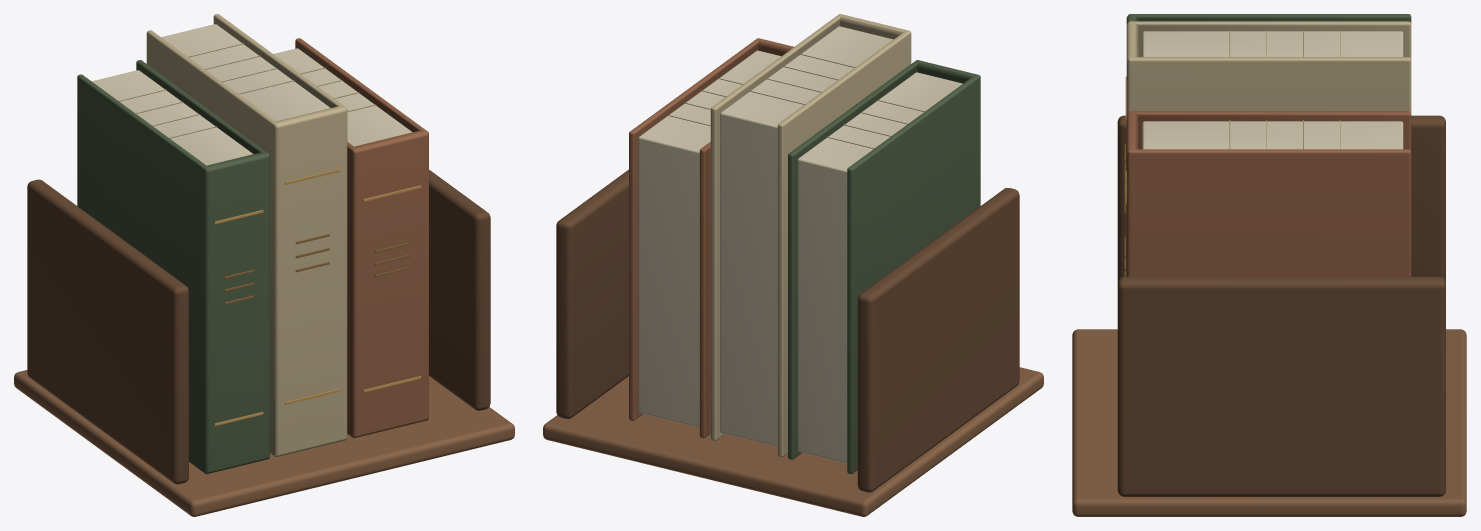
File: deskbooks.glb
The picture shows the model from 3 angles, left to right: view 1: azimuth 30°, elevation 25°; view 2: azimuth 150°, elevation 25°; view 3: azimuth 270°, elevation 25°; orthographic projection. The views are drawn at different scales.
Visible parts, largest first — view 1: Atelier_Deskbooks; view 2: Atelier_Deskbooks; view 3: Atelier_Deskbooks.
Boxes of the visible parts, x1,y1,x2,y2 form: Atelier_Deskbooks: [14, 14, 514, 516]; Atelier_Deskbooks: [543, 14, 1043, 516]; Atelier_Deskbooks: [1072, 14, 1466, 516].
Bounding box in the file's own units: 0.5 × 0.514 × 0.48.
